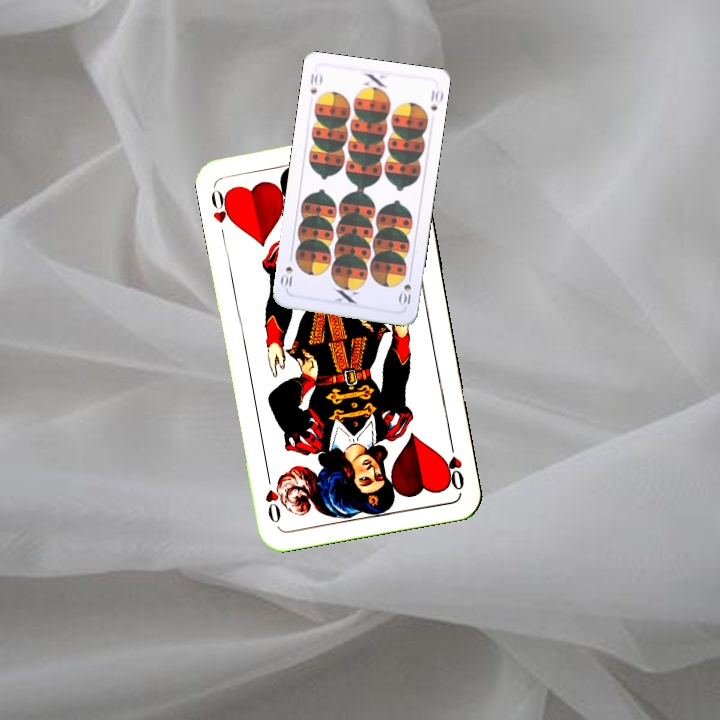HO: (440, 435, 467, 493), (207, 183, 237, 227)
S10: (395, 280, 414, 308), (306, 69, 324, 96)
